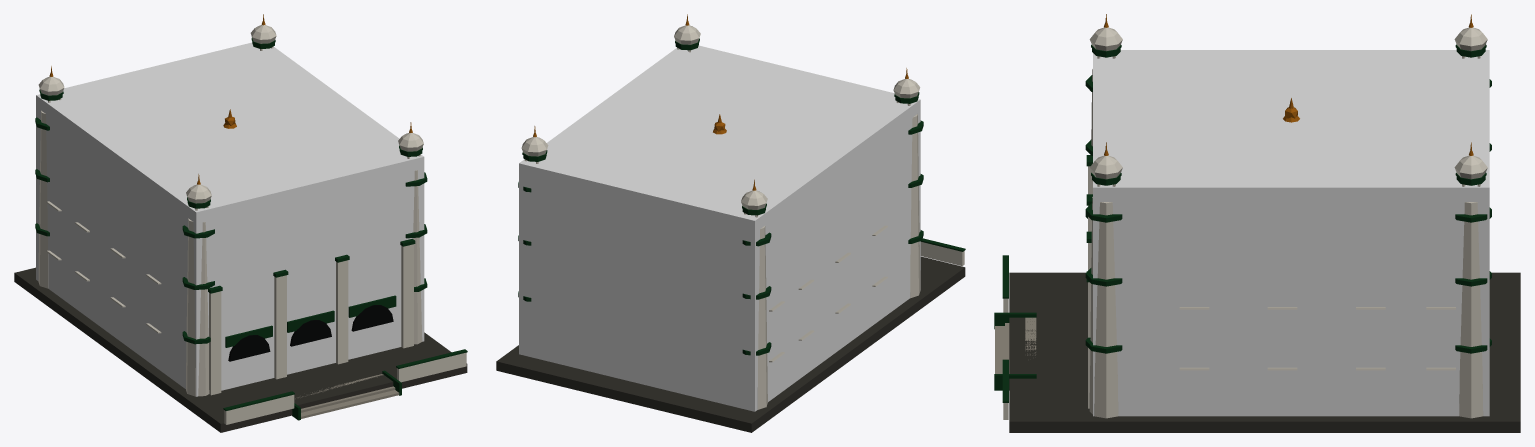
File: B33_mosque_urban.glb
3 views of the same model, side by side, from view 1: azimuth 30°, elevation 25°; view 2: azimuth 150°, elevation 25°; view 3: azimuth 270°, elevation 25° (orthographic). The views are drawn at different scales.
Parts seen in each view (by area): view 1: COL_Main, LOD0; view 2: COL_Main, LOD0; view 3: COL_Main, LOD0.
Part boxes in pixels (<box>): COL_Main: <box>36,42,424,396</box>; LOD0: <box>14,14,467,432</box>; COL_Main: <box>519,45,920,411</box>; LOD0: <box>496,14,965,432</box>; COL_Main: <box>1093,50,1489,416</box>; LOD0: <box>994,14,1520,432</box>.
Size of what is drawn, in the model's own units: 20 by 17.6 by 29.85.
